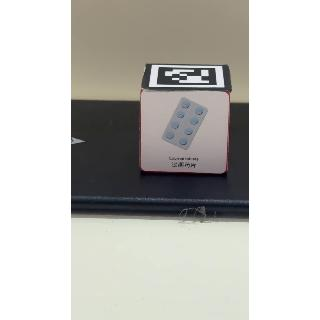Tablet: (142, 93, 229, 173)
